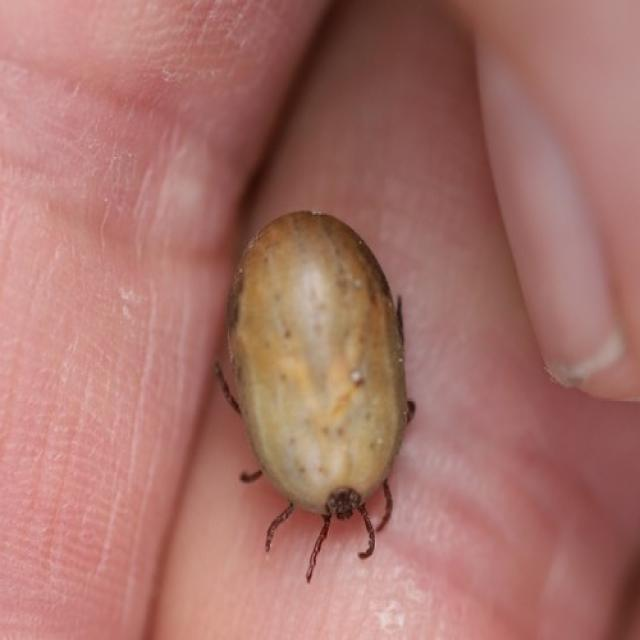Dermacentor Reticulatus-F-Fed: (216, 212, 417, 585)
